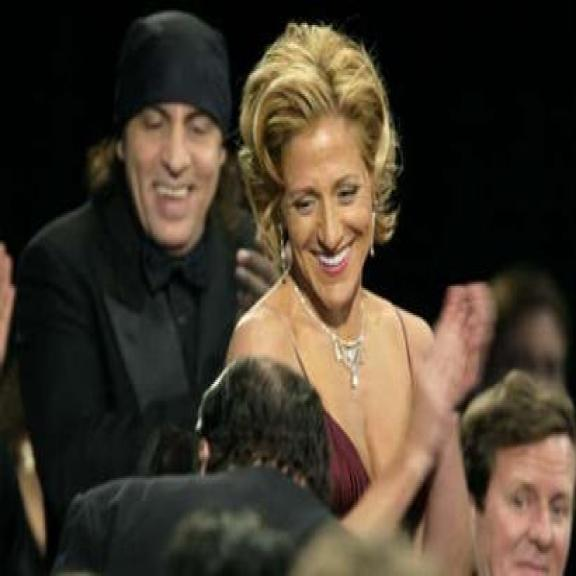face: (280, 108, 386, 312), (115, 100, 232, 255), (470, 415, 576, 576)
